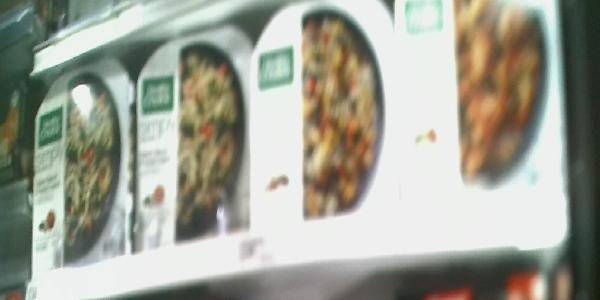pizza1: (396, 1, 563, 216), (251, 3, 393, 237), (124, 23, 249, 261), (31, 55, 135, 271)
